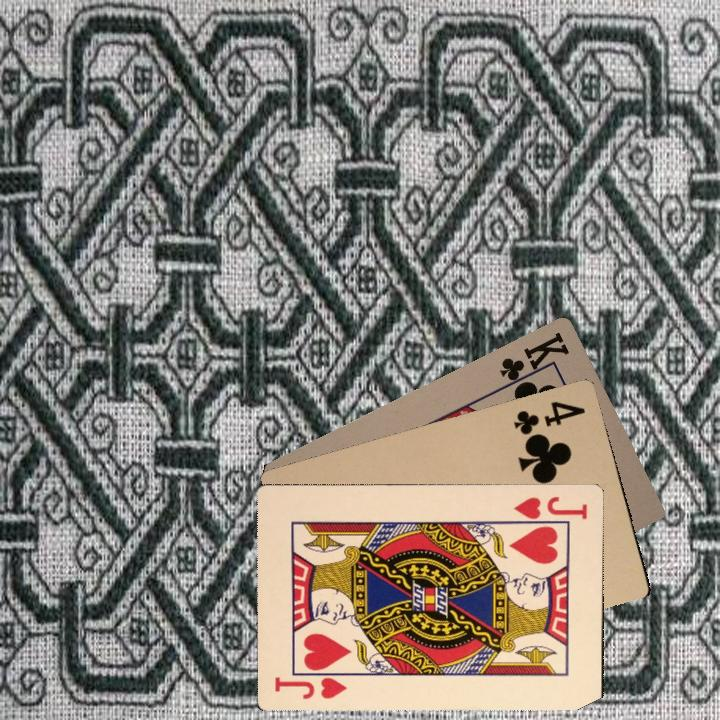4c: (509, 397, 588, 440)
Jh: (509, 492, 590, 527), (270, 673, 349, 702)
Kc: (495, 327, 572, 392)
